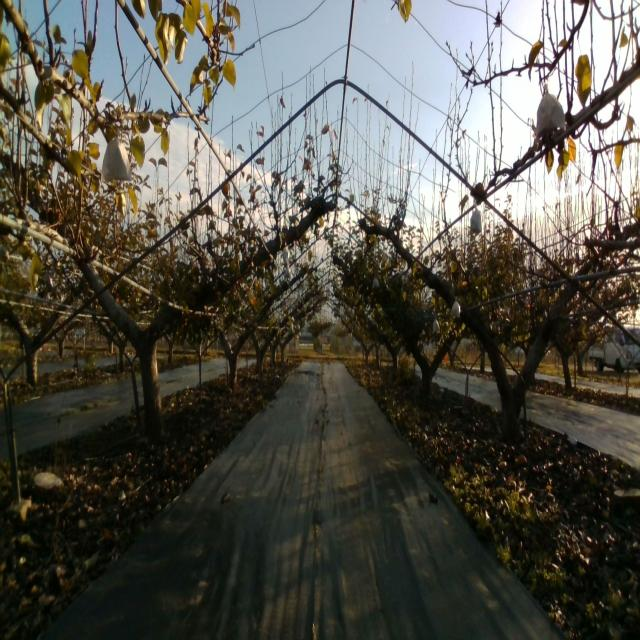pearbags: (536, 80, 567, 139), (100, 134, 134, 183), (469, 203, 483, 234), (451, 296, 462, 318)
